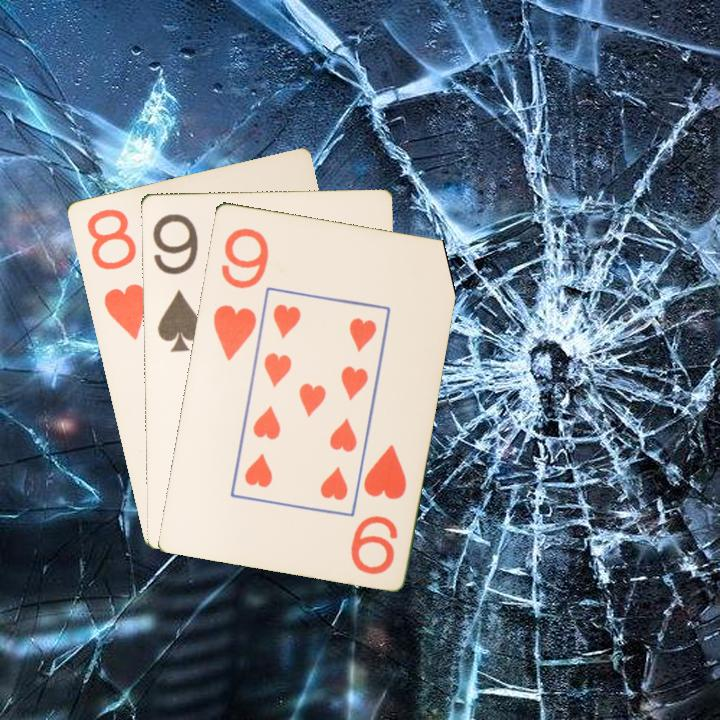8h: (82, 205, 150, 343)
9h: (209, 223, 271, 364), (347, 440, 409, 577)
9s: (149, 209, 205, 354)
